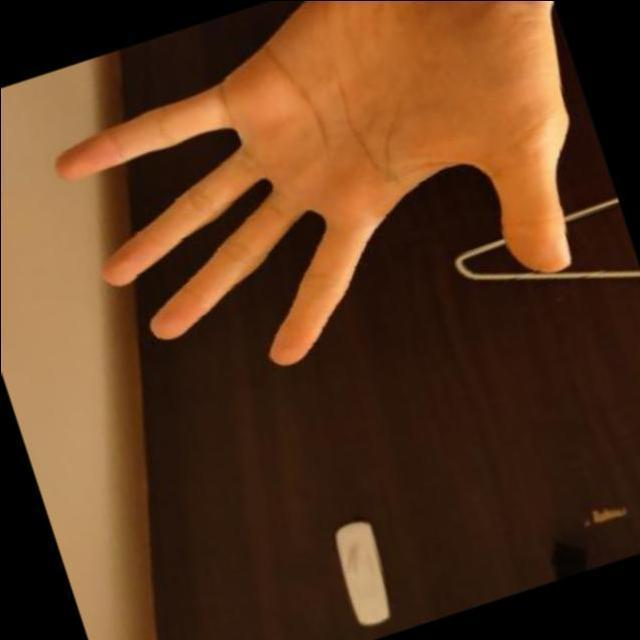Hand: (35, 2, 606, 366)
